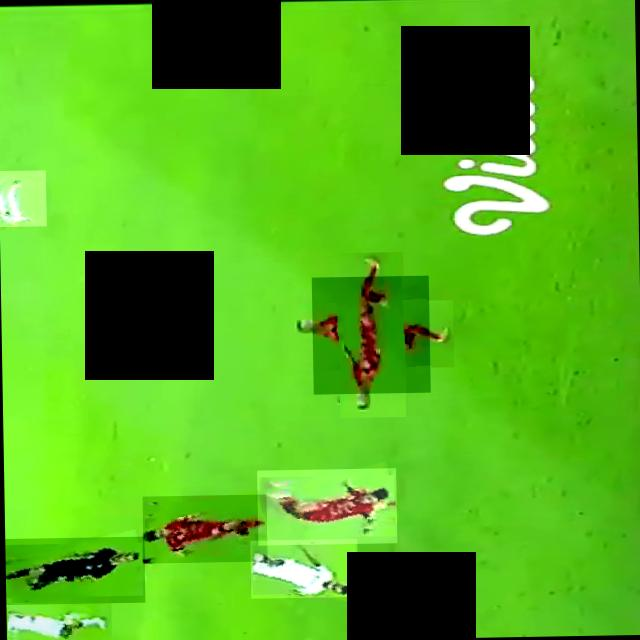ball: (364, 563, 388, 587)
referee: (4, 536, 144, 604)
soccer-player: (310, 275, 430, 394), (256, 468, 396, 545), (141, 494, 266, 563), (249, 538, 357, 598), (5, 602, 111, 640), (0, 169, 45, 226)
